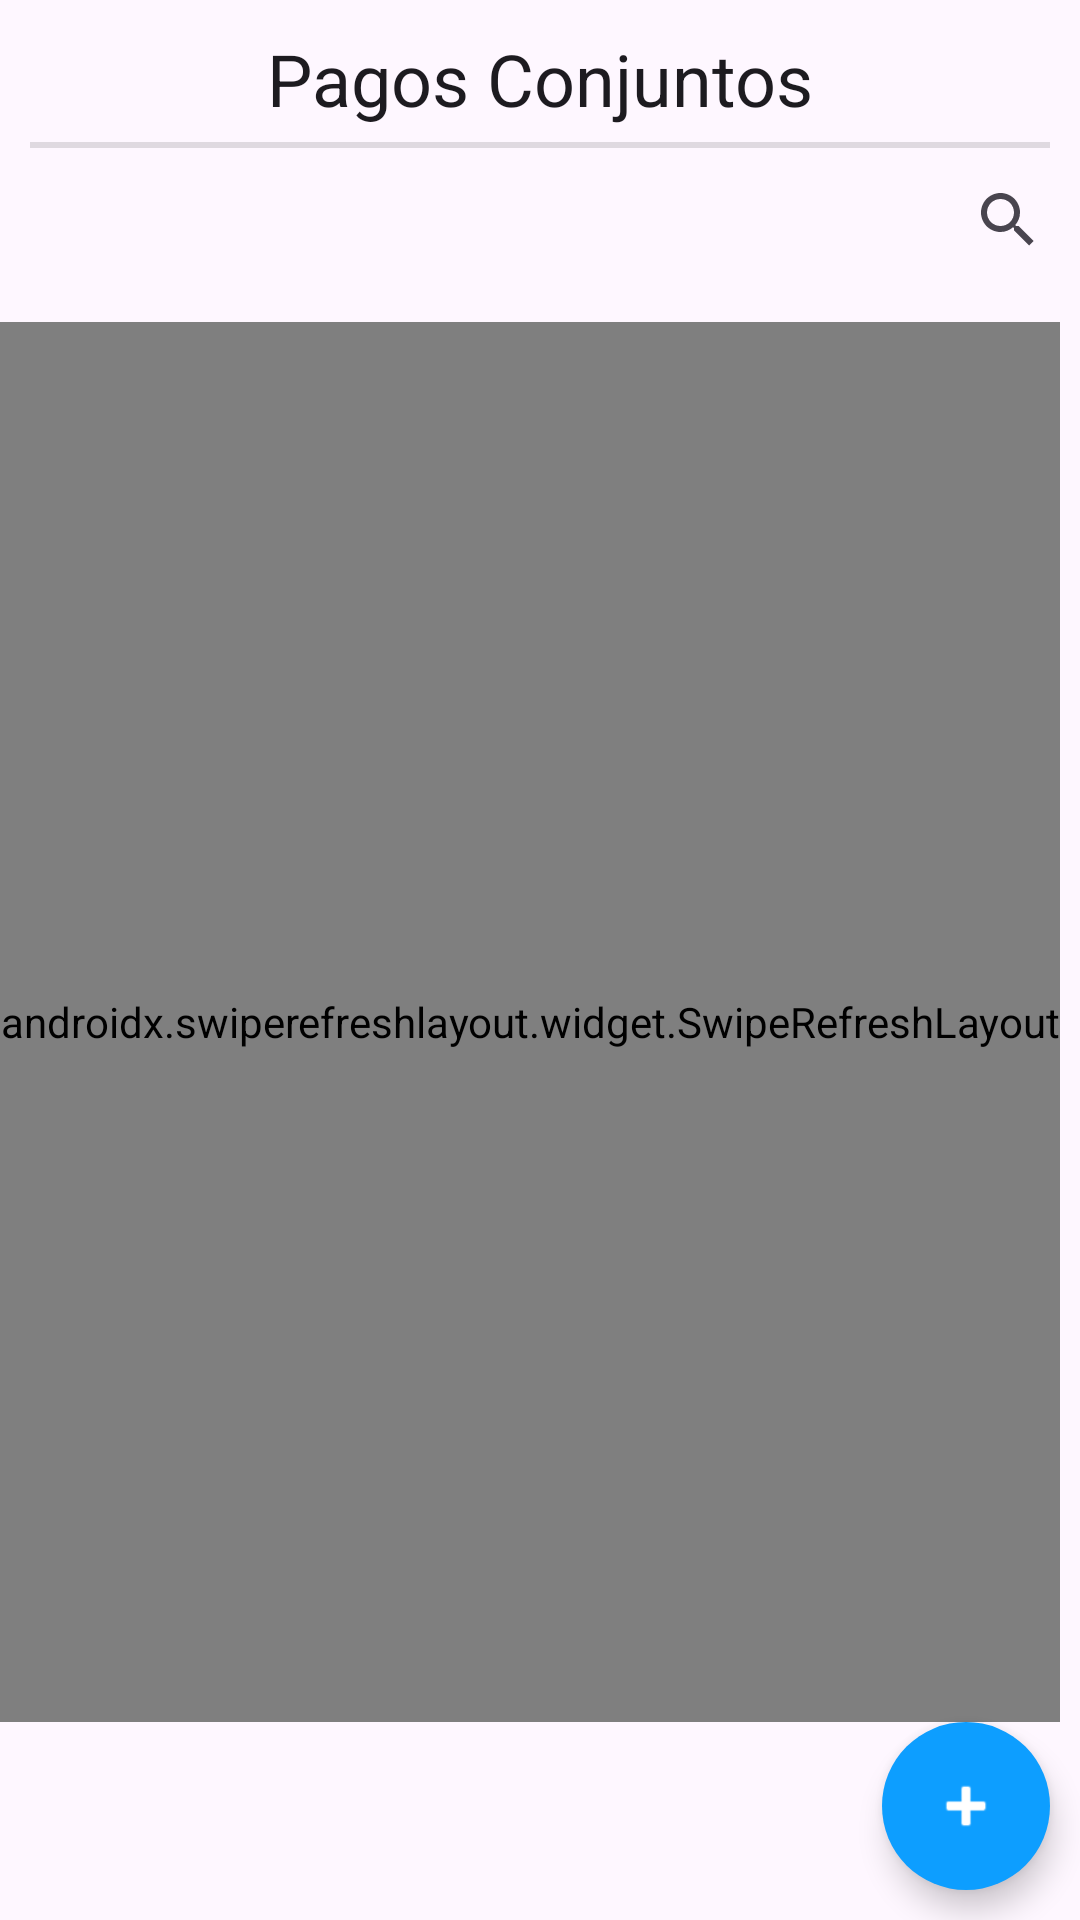

Named icons in this screenshot (1080x1920) and their bounding boxes, (x1, y1, x2, y2):
Añadir nuevo pago conjunto: (882, 1722, 1050, 1890)
